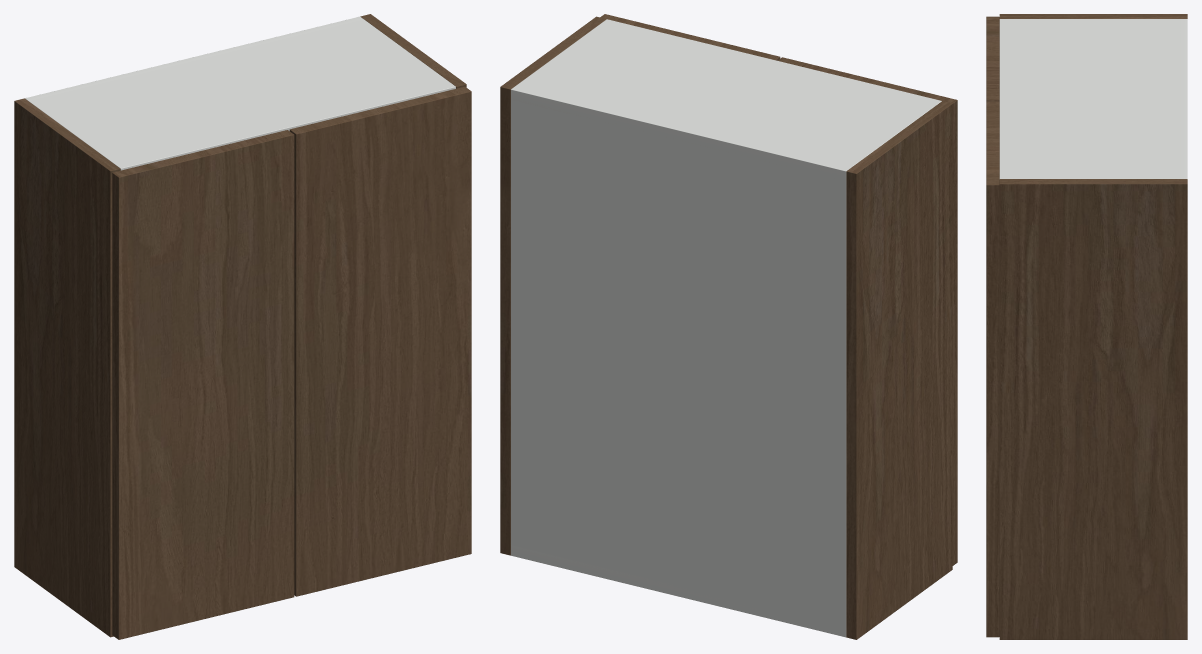
File: oppein-pb-mso-w2430.glb
3 views of the same model, side by side, from view 1: azimuth 30°, elevation 25°; view 2: azimuth 150°, elevation 25°; view 3: azimuth 270°, elevation 25° (orthographic). The views are drawn at different scales.
Visible parts, largest first — view 1: Door, Door.001, Cabinet side, Cabinet top, Cabinet back, Cabinet side.001; view 2: Cabinet back, Cabinet side, Cabinet top, Cabinet side.001, Door, Cabinet bottom, Door.001; view 3: Cabinet side.001, Cabinet top, Door.001, Cabinet back, Door, Cabinet side.
Part boxes in pixels (bbox=[...]): Door: bbox=[112, 130, 294, 639]; Door.001: bbox=[289, 86, 471, 596]; Cabinet side: bbox=[14, 98, 120, 637]; Cabinet top: bbox=[25, 19, 455, 170]; Cabinet back: bbox=[25, 16, 363, 100]; Cabinet side.001: bbox=[360, 14, 466, 88]; Cabinet back: bbox=[511, 86, 849, 636]; Cabinet side: bbox=[846, 101, 952, 639]; Cabinet top: bbox=[511, 19, 941, 180]; Cabinet side.001: bbox=[500, 16, 606, 555]; Door: bbox=[777, 57, 957, 565]; Cabinet bottom: bbox=[511, 545, 846, 637]; Door.001: bbox=[600, 14, 780, 60]; Cabinet side.001: bbox=[999, 179, 1187, 639]; Cabinet top: bbox=[999, 19, 1187, 178]; Door.001: bbox=[986, 101, 999, 637]; Cabinet back: bbox=[1180, 19, 1187, 178]; Door: bbox=[986, 16, 999, 101]; Cabinet side: bbox=[999, 14, 1187, 18].
Bounding box in the file's own units: 0.6096 × 0.762 × 0.3048.
2 materials, 1 textured.
